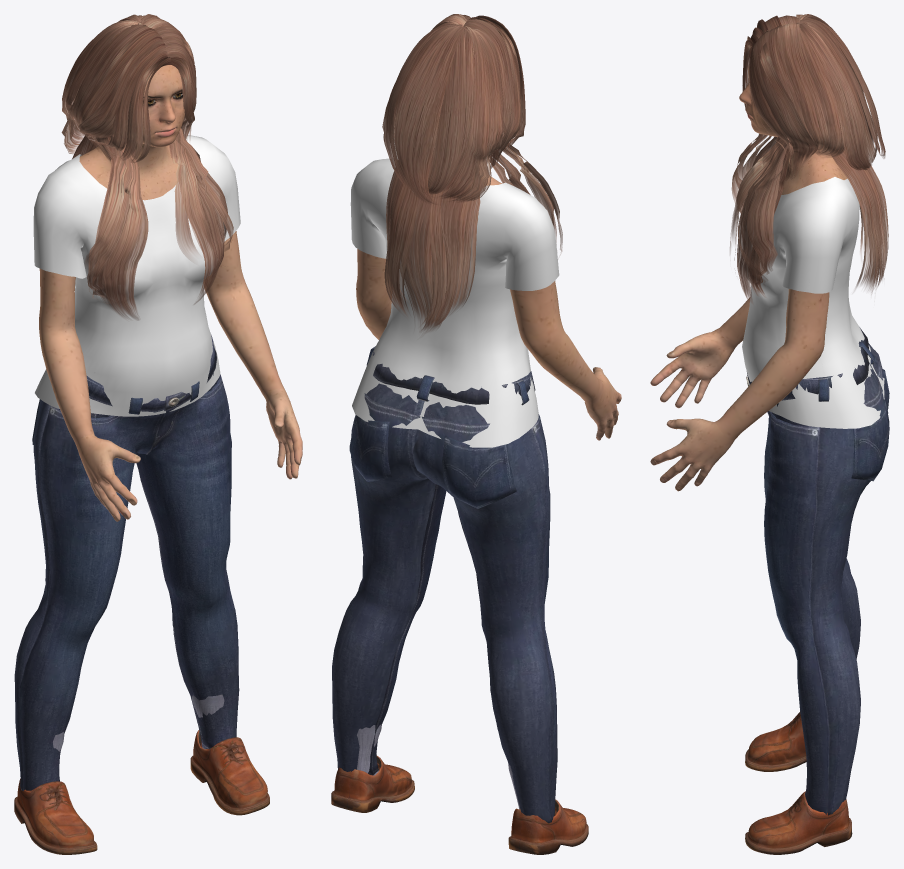
File: donna-05.glb
3 views of the same model, side by side, from view 1: azimuth 30°, elevation 25°; view 2: azimuth 150°, elevation 25°; view 3: azimuth 270°, elevation 25° (orthographic). The views are drawn at different scales.
Visible parts, largest first — view 1: Human.punkduck_female_tight_jeans, Human.joepal_crude_t-shirt_female, Human.elvs_daisy_hair, Human, Human.shoes01; view 2: Human.punkduck_female_tight_jeans, Human.elvs_daisy_hair, Human.joepal_crude_t-shirt_female, Human, Human.shoes01; view 3: Human.punkduck_female_tight_jeans, Human.elvs_daisy_hair, Human.joepal_crude_t-shirt_female, Human, Human.shoes01.
Boxes of the visible parts, bbox=[...] form: Human.punkduck_female_tight_jeans: bbox=[14, 334, 239, 790]; Human.joepal_crude_t-shirt_female: bbox=[33, 135, 240, 416]; Human.elvs_daisy_hair: bbox=[61, 14, 233, 320]; Human: bbox=[39, 25, 302, 521]; Human.shoes01: bbox=[14, 694, 269, 854]; Human.punkduck_female_tight_jeans: bbox=[332, 346, 557, 823]; Human.elvs_daisy_hair: bbox=[382, 14, 562, 332]; Human.joepal_crude_t-shirt_female: bbox=[350, 158, 559, 447]; Human: bbox=[356, 100, 621, 440]; Human.shoes01: bbox=[331, 724, 588, 854]; Human.punkduck_female_tight_jeans: bbox=[746, 327, 889, 815]; Human.elvs_daisy_hair: bbox=[730, 14, 888, 303]; Human.joepal_crude_t-shirt_female: bbox=[742, 176, 884, 428]; Human: bbox=[650, 63, 848, 491]; Human.shoes01: bbox=[745, 711, 852, 854].
Bounding box in the file's own units: 0.4683 × 1.58 × 0.4357.
Materials: 13 (13 with a texture image).
